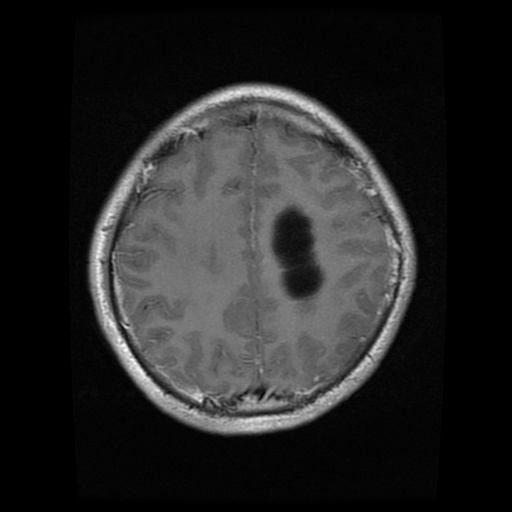glioma: (271, 205, 324, 300)
